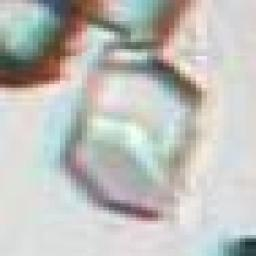crystals: (52, 50, 208, 229)
